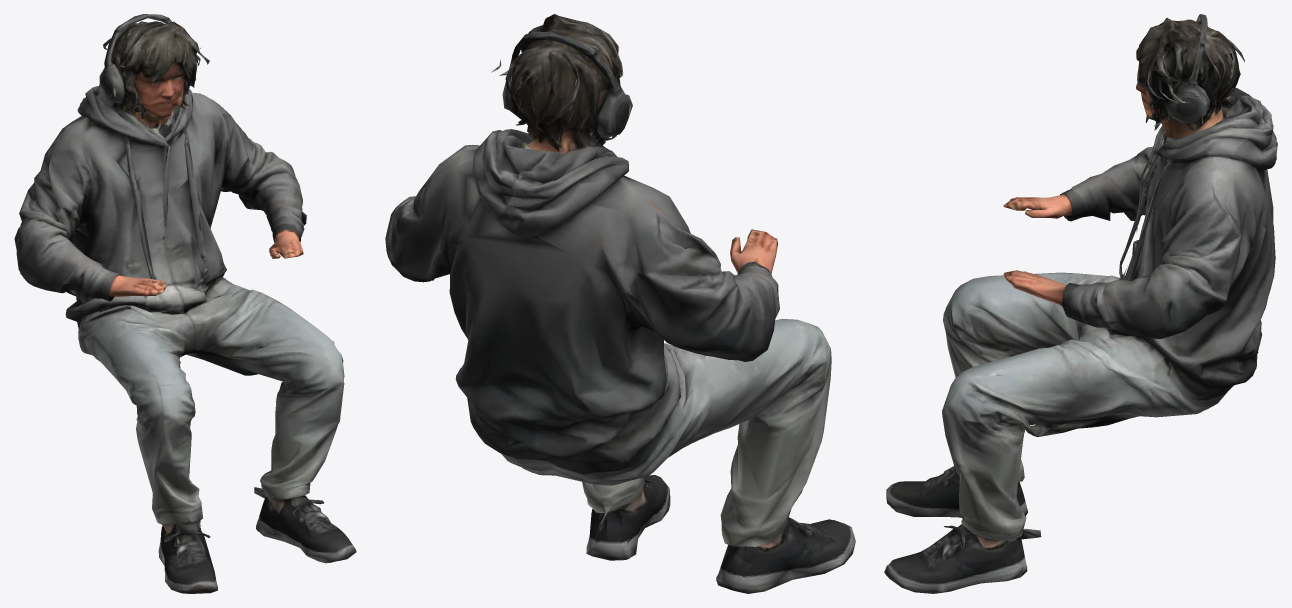
The model's file is guy.glb.
3 views of the same model, side by side, from view 1: azimuth 30°, elevation 25°; view 2: azimuth 150°, elevation 25°; view 3: azimuth 270°, elevation 25° (orthographic). The views are drawn at different scales.
Parts seen in each view (by area): view 1: geometry_0; view 2: geometry_0; view 3: geometry_0.
Boxes of the visible parts, <box> form: geometry_0: <box>14,14,356,593</box>; geometry_0: <box>385,14,855,593</box>; geometry_0: <box>884,14,1277,593</box>.
Size of the model in its own units: 0.6238 by 0.9968 by 0.6749.
1 material, 1 textured.
